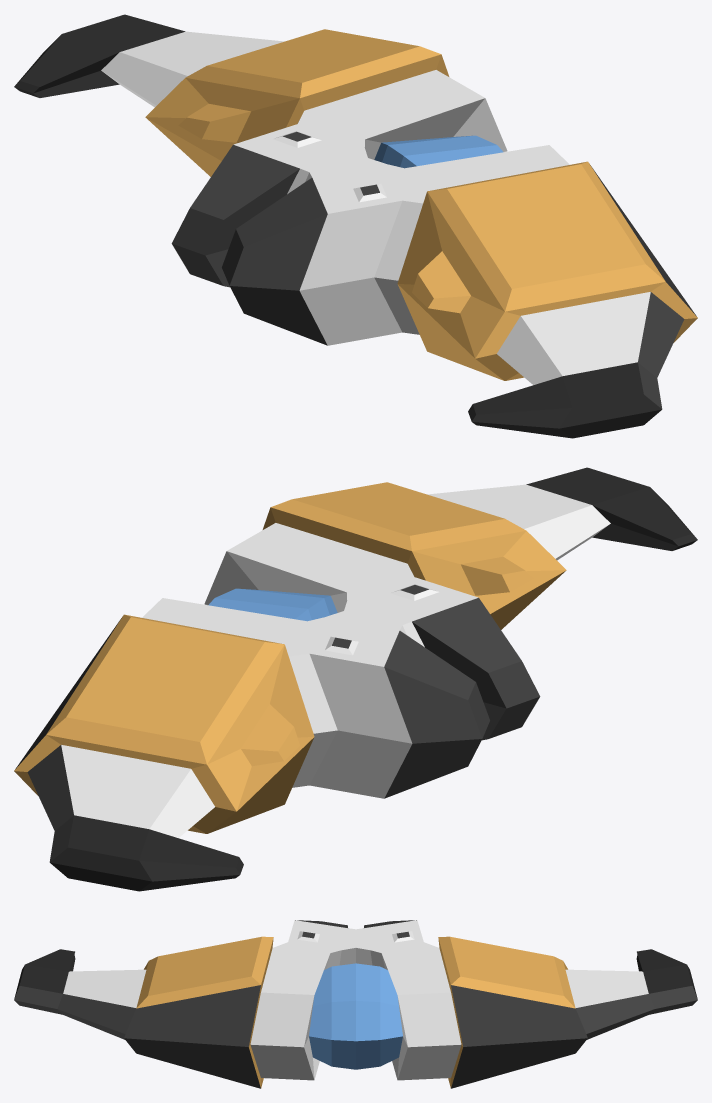
File: lowpoly_spaceship.glb
The picture shows the model from 3 angles, top to bottom: view 1: azimuth 30°, elevation 25°; view 2: azimuth 150°, elevation 25°; view 3: azimuth 270°, elevation 25°; orthographic projection. The views are drawn at different scales.
Parts seen in each view (by area): view 1: Cube; view 2: Cube; view 3: Cube.
Boxes of the visible parts, x1,y1,x2,y2 form: Cube: (14, 14, 697, 438); Cube: (14, 467, 697, 891); Cube: (14, 920, 697, 1088).
Bounding box in the file's own units: 284 × 130 × 748.
1 material, 1 textured.
